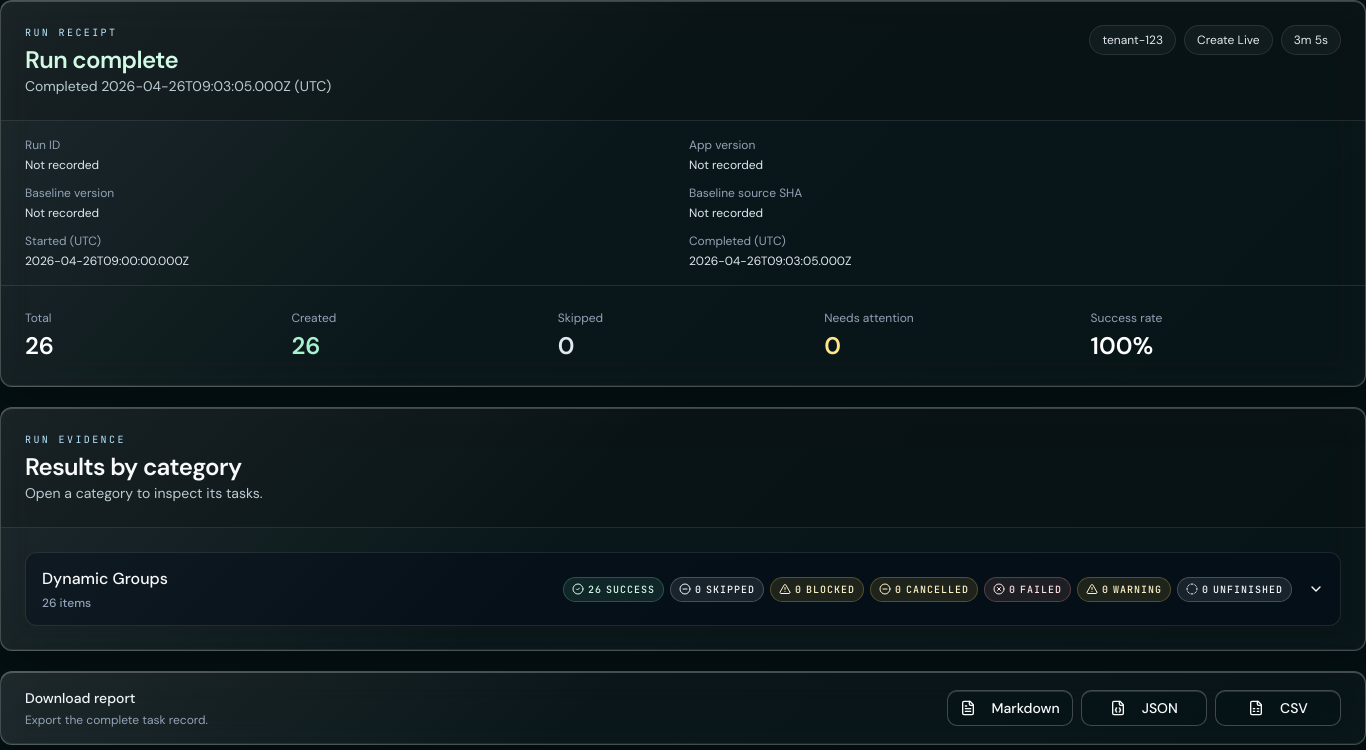
Test: ResultsSummary › limits long categories until the user asks to show every task
What coordinates should you click on to do the following:
click the button "Dynamic Groups"
I would click on:
 (683, 589)
Its box is [26,553,1340,625].
(page scrolled)
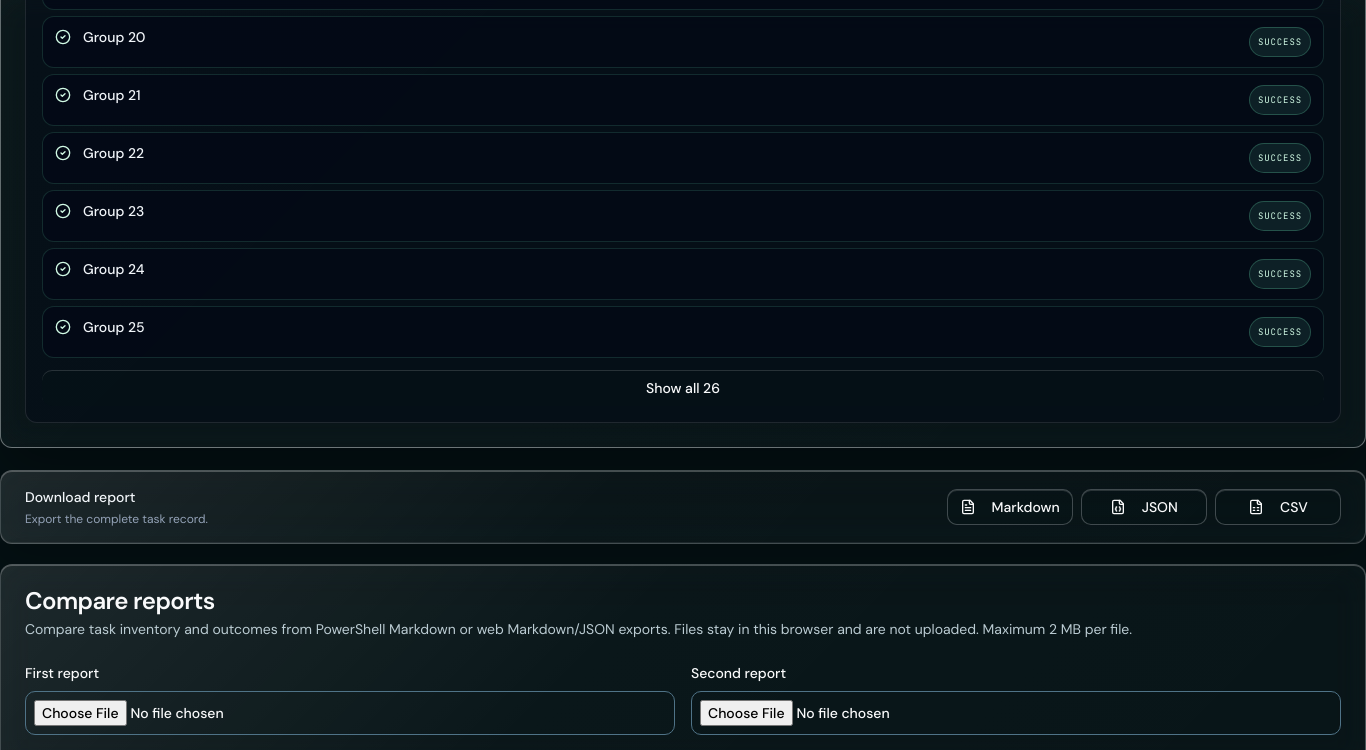
Expected: the text "Group 26" is not shown
Result: the text "Group 25" is shown at [83,318,145,336]
What coordinates should you click on to do the following:
click the button "Show all 26"
I would click on:
 (683, 388)
Its box is [42,370,1324,406].
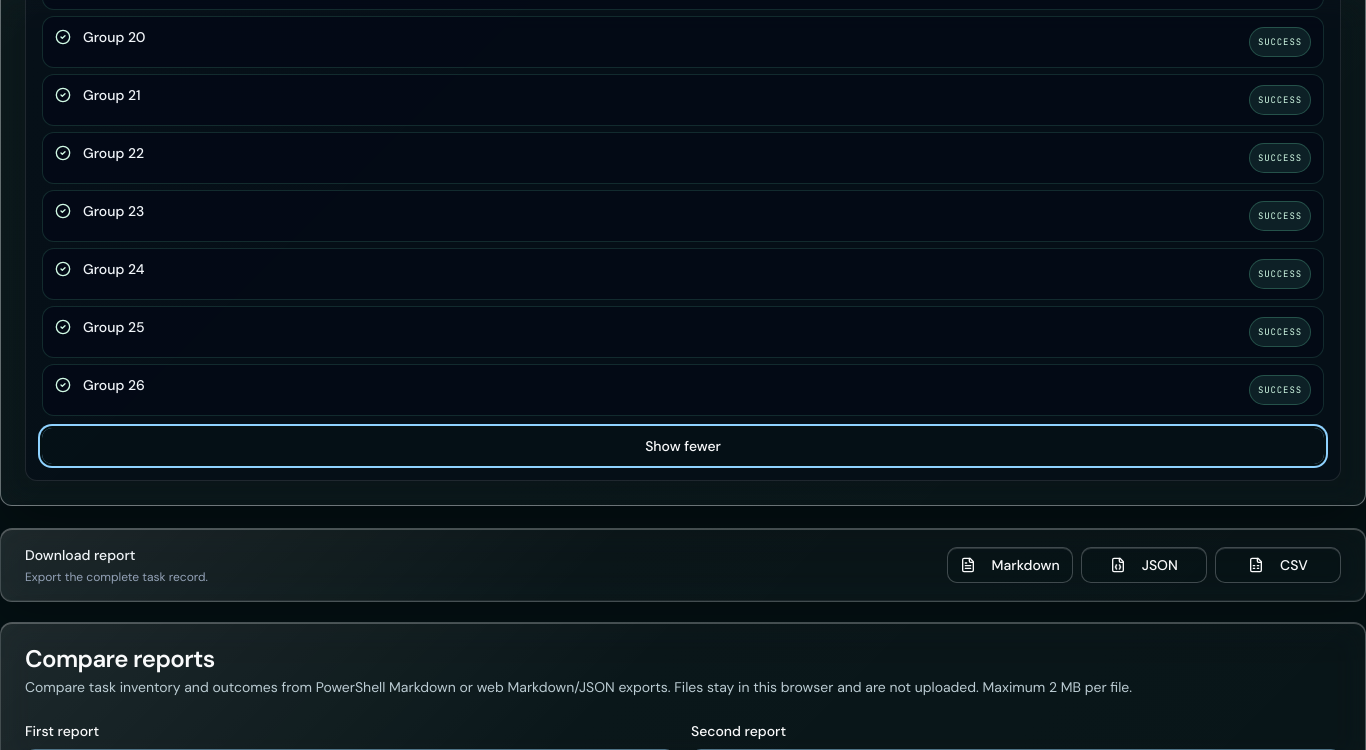
Result: the text "Group 26" is shown at [83,376,145,394]
Result: the button "Show fewer" is shown at [42,428,1324,464]
